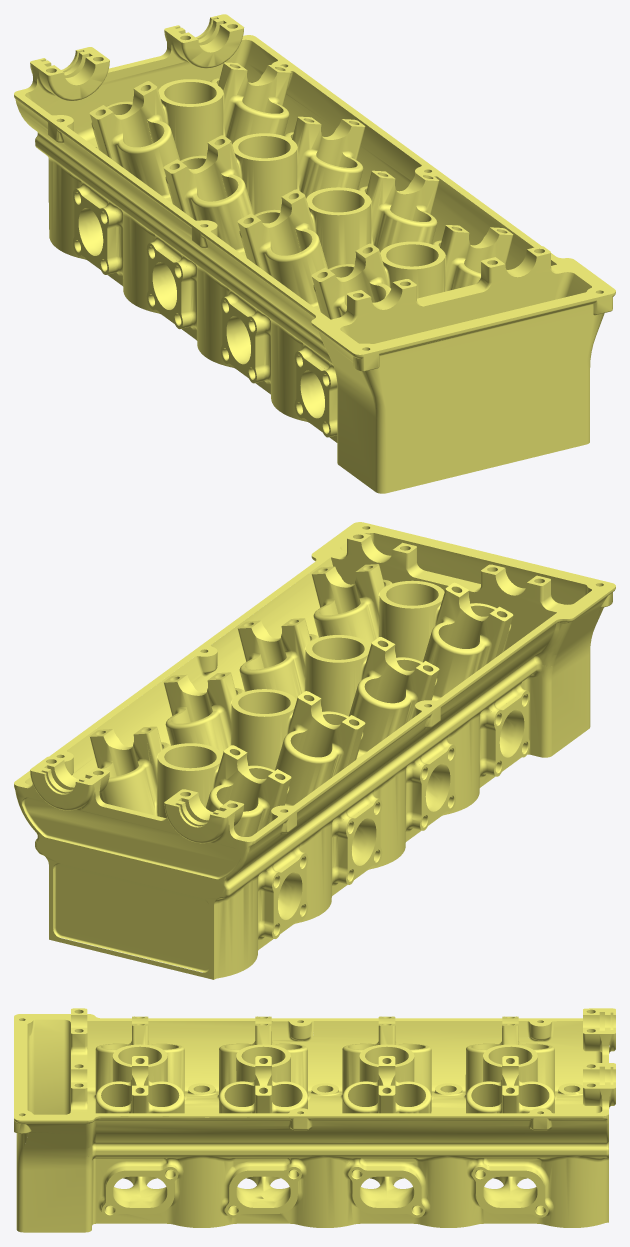
The model's file is cylinder-head.glb.
3 views of the same model, one above another, from view 1: azimuth 30°, elevation 25°; view 2: azimuth 150°, elevation 25°; view 3: azimuth 270°, elevation 25° (orthographic). The views are drawn at different scales.
Parts seen in each view (by area): view 1: Object_4; view 2: Object_4; view 3: Object_4.
Boxes of the visible parts, box(x1,y1,x2,y2) form: Object_4: box(14, 14, 615, 493); Object_4: box(14, 522, 615, 979); Object_4: box(14, 1008, 615, 1232).
Size of the model in its own units: 409 by 265 by 976.
